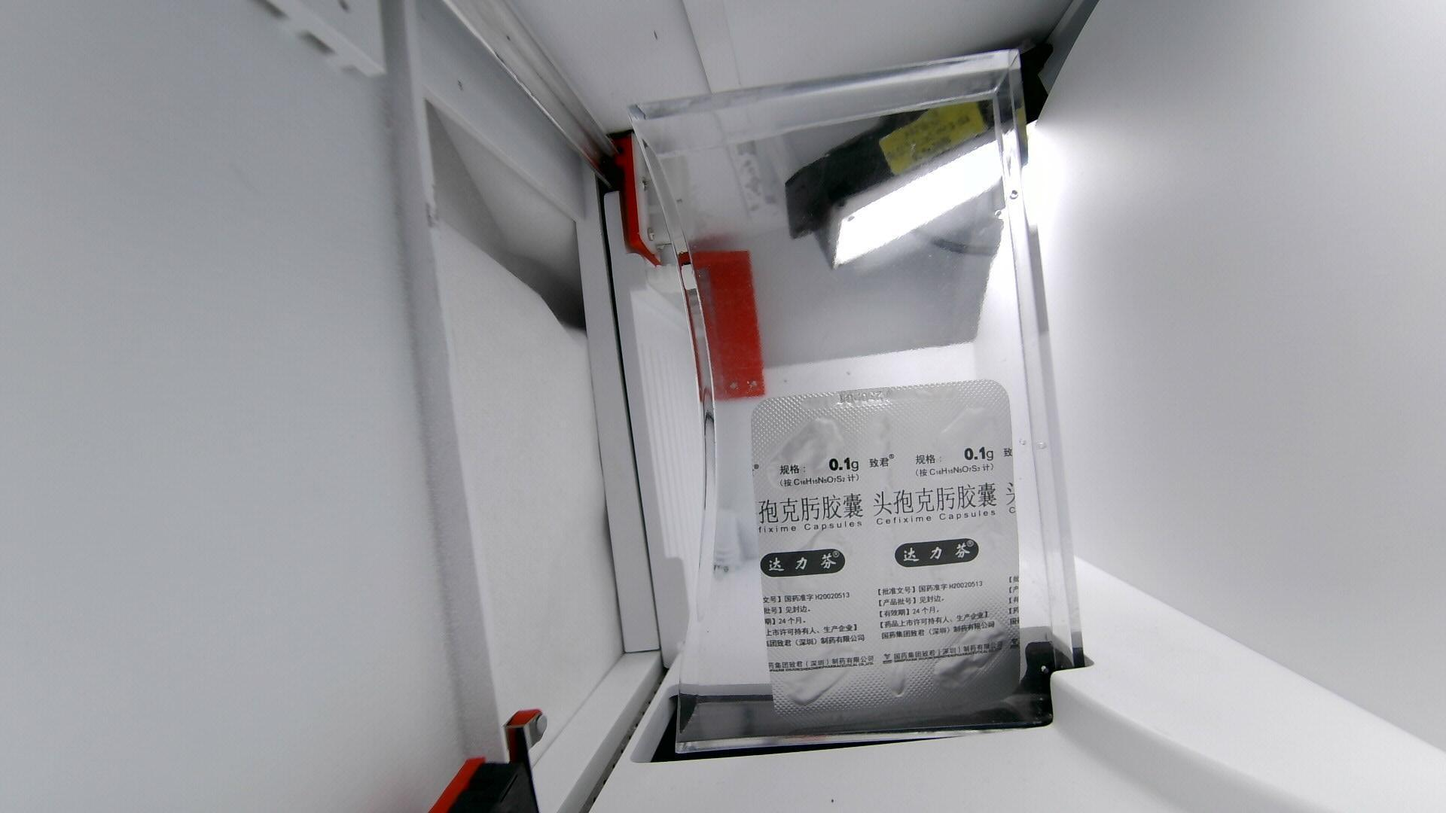Pill Back: (904, 512, 1006, 588), (765, 522, 865, 598), (759, 418, 850, 494), (920, 408, 996, 487), (933, 620, 1007, 692), (784, 638, 859, 706)
